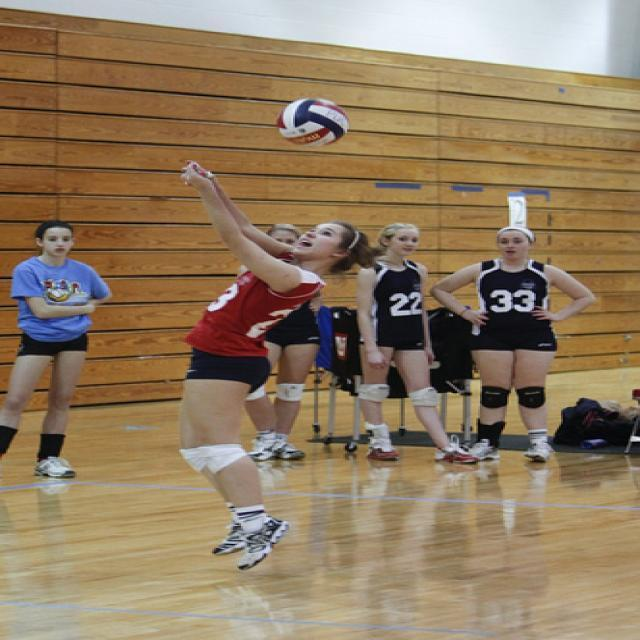volleyball: (277, 98, 348, 146)
